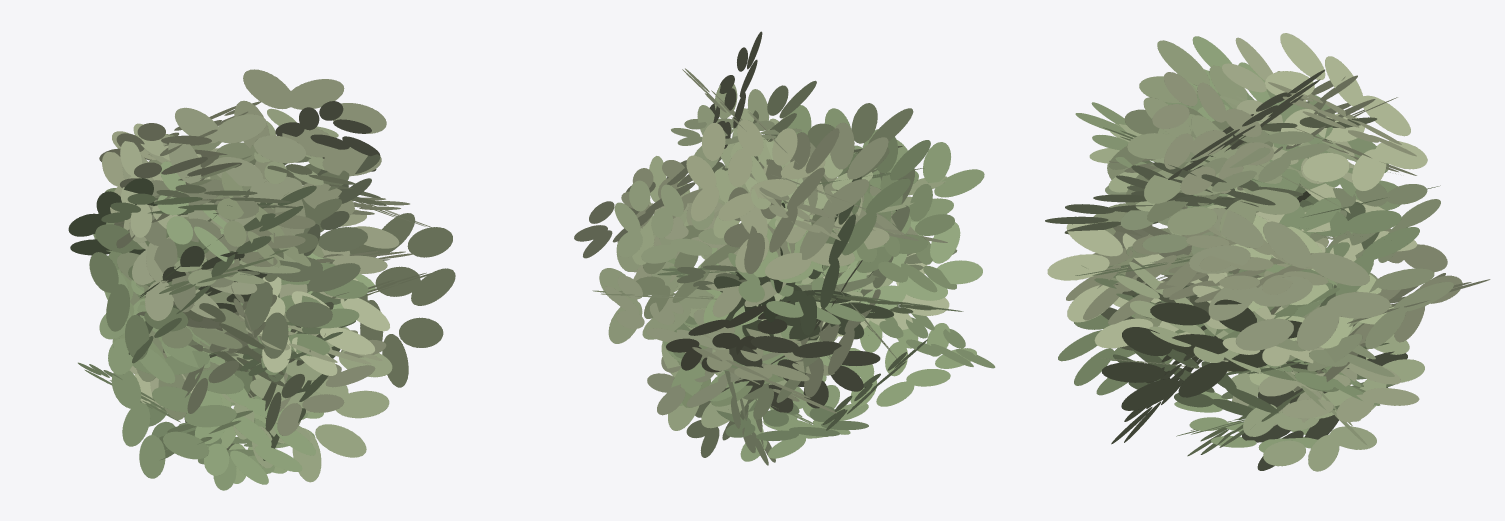
The model's file is campus-tree-6_-1-far.glb.
3 views of the same model, side by side, from view 1: azimuth 30°, elevation 25°; view 2: azimuth 150°, elevation 25°; view 3: azimuth 270°, elevation 25° (orthographic). The views are drawn at different scales.
Visible parts, largest first — view 1: Campus leaf canopy; view 2: Campus leaf canopy; view 3: Campus leaf canopy.
Boxes of the visible parts, bbox=[...] form: Campus leaf canopy: bbox=[68, 69, 455, 490]; Campus leaf canopy: bbox=[574, 31, 995, 465]; Campus leaf canopy: bbox=[1045, 33, 1490, 471].
Size of the model in its own units: 5.08 by 5.29 by 4.57.
1 material, 1 textured.
